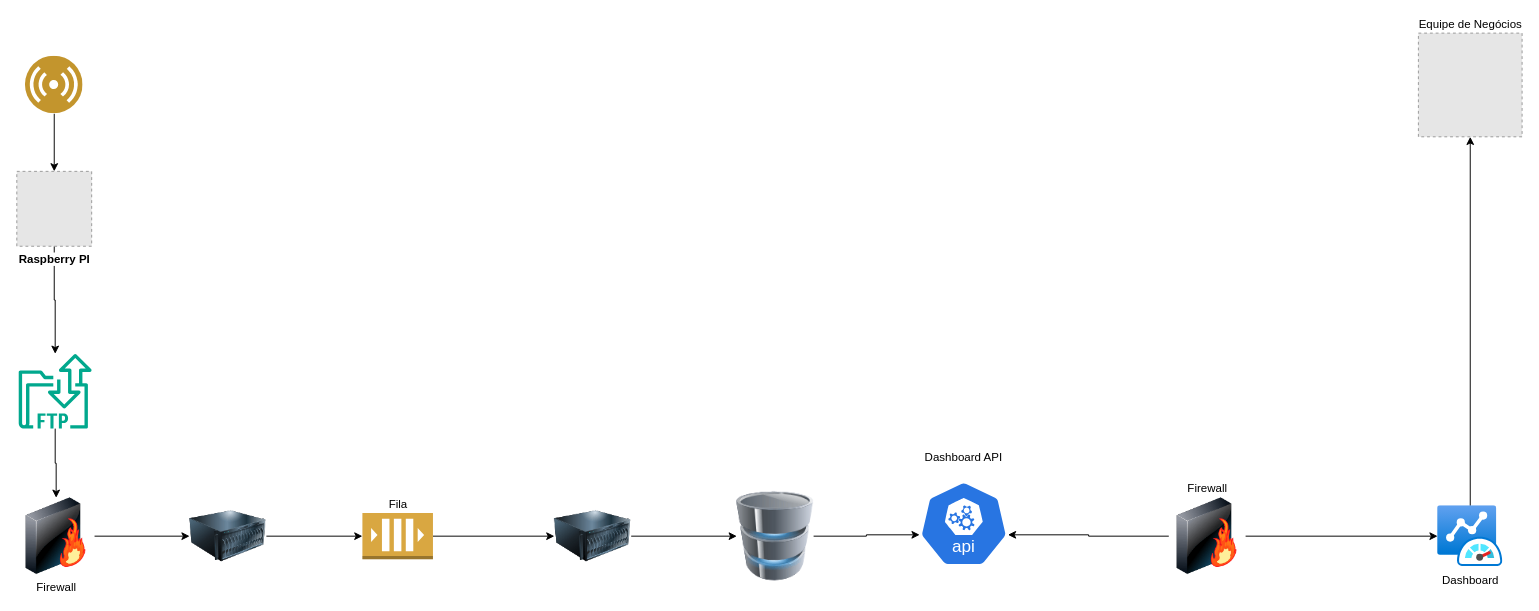
This 1539x611 diagram has some shape labels left out. Grey dashed boxes stand in for pictures. The shapes that lost their labels are listed below. From the top down, each one's centre as x and y in pixels, then its label:
At pixel 54 84: "Sensor".
At pixel 227 535: "SensorService".
At pixel 592 535: "ProcessorService".
At pixel 774 536: "Banco".
